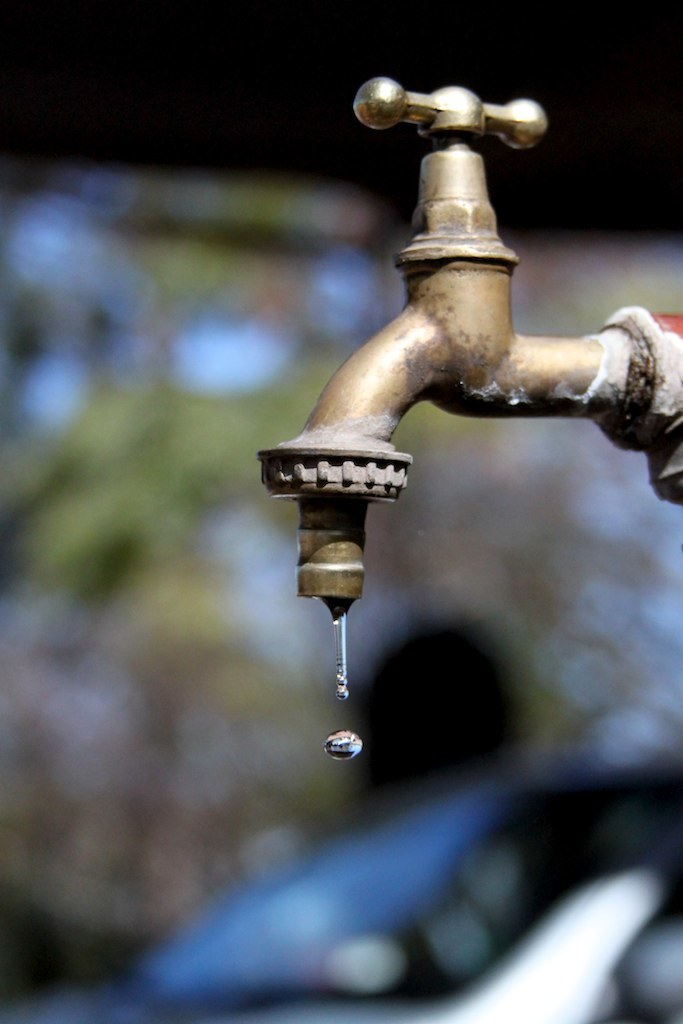tap: (253, 88, 682, 602)
